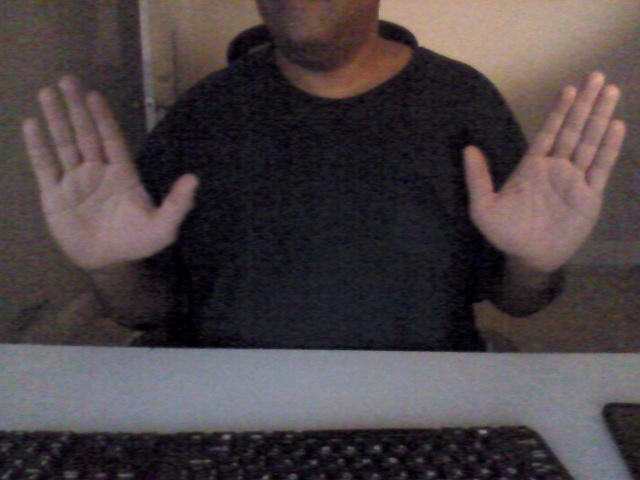great: (19, 70, 627, 276)
